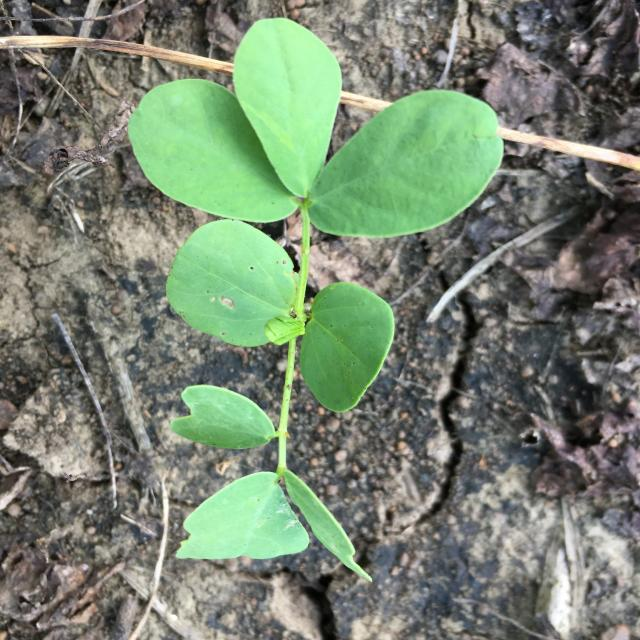Sicklepod: (128, 18, 503, 582)
